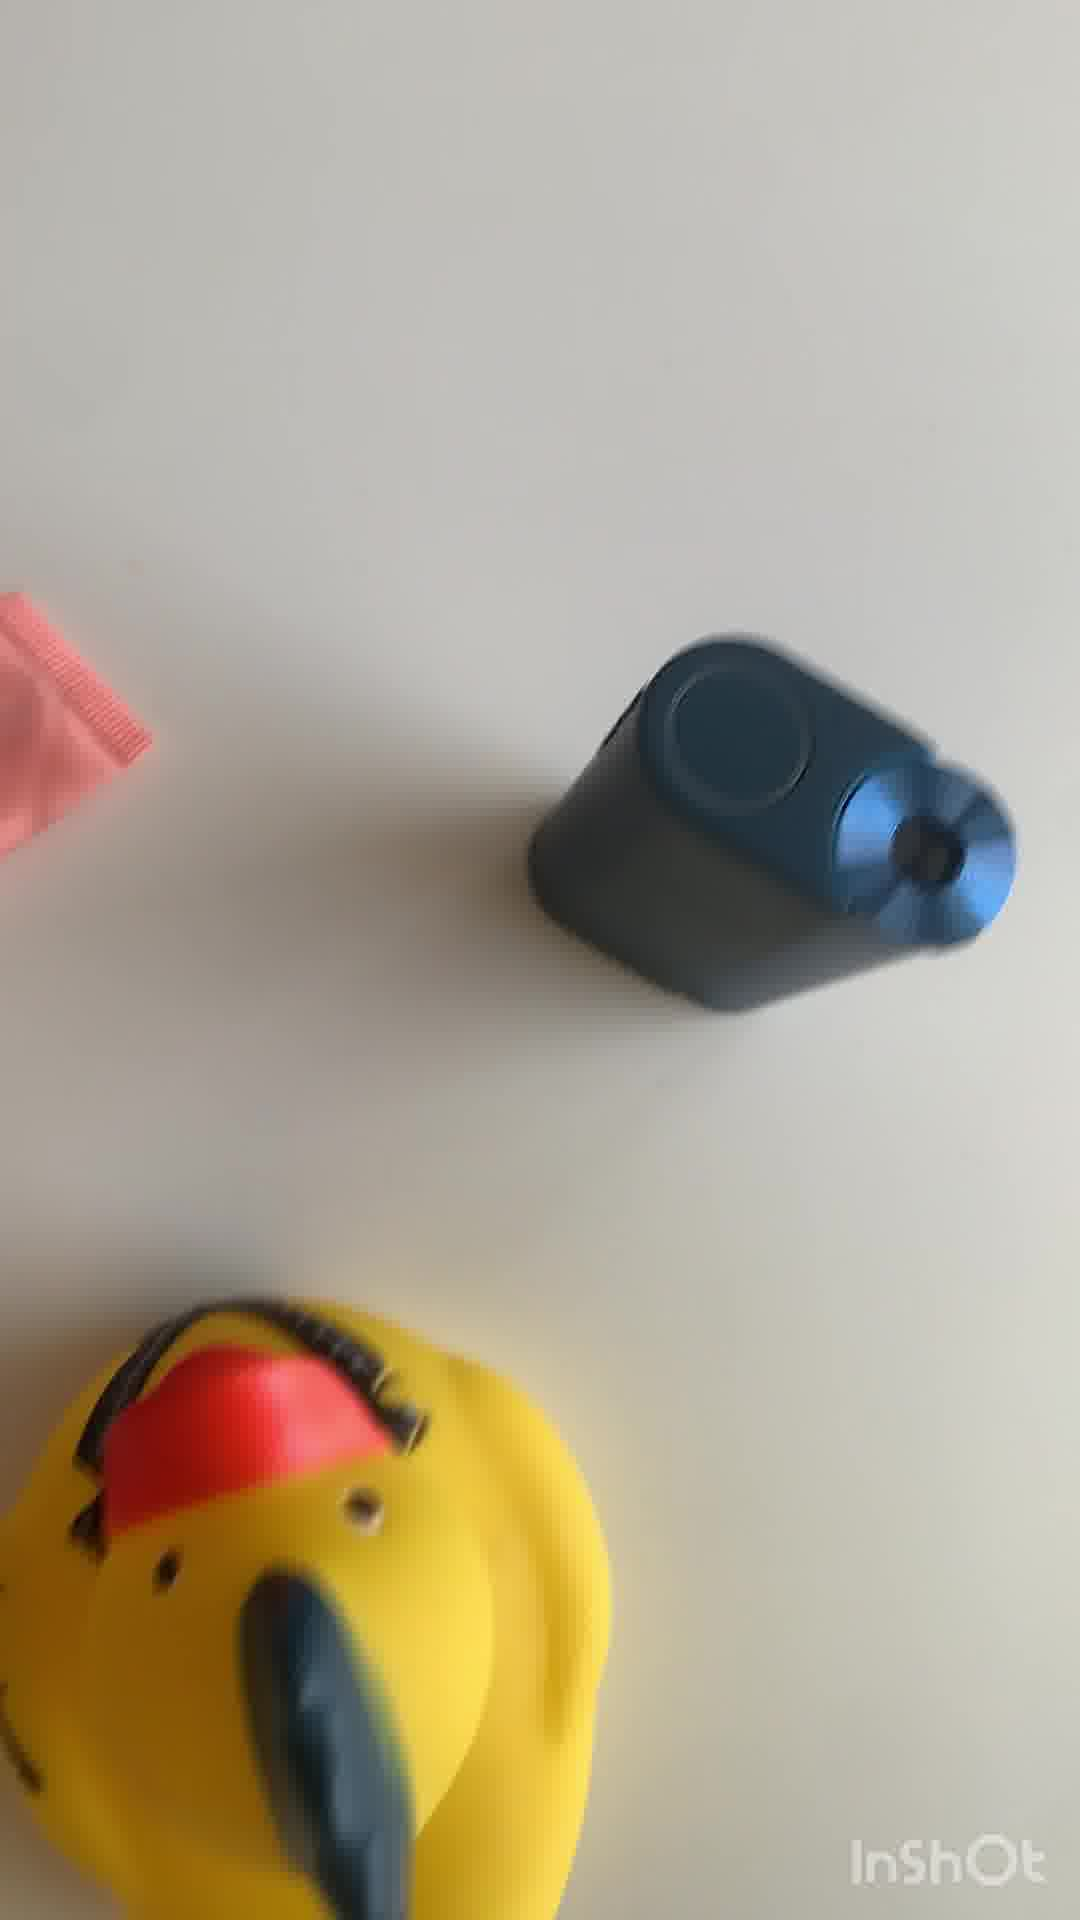duck: (1, 1284, 615, 1920)
glo: (518, 634, 1023, 1026)
lip balm: (1, 593, 162, 864)
